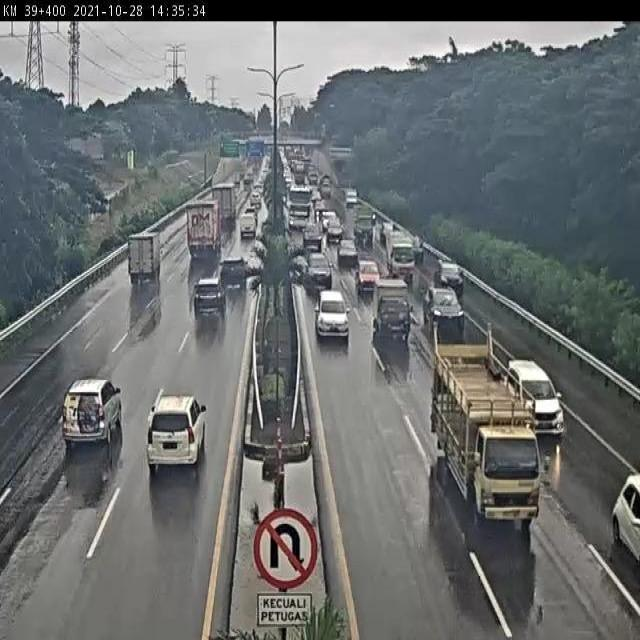big truck: (186, 201, 223, 259), (212, 183, 236, 225), (287, 184, 312, 224)
car: (148, 393, 208, 471), (509, 360, 567, 439), (63, 379, 122, 444), (612, 469, 640, 554), (374, 280, 408, 337), (426, 290, 465, 338), (318, 292, 348, 337), (196, 282, 229, 318), (219, 258, 247, 294), (434, 262, 464, 294), (304, 248, 329, 284), (235, 216, 258, 243), (353, 253, 371, 283), (304, 224, 325, 247), (410, 232, 426, 259), (244, 208, 261, 227), (336, 235, 351, 256), (248, 193, 262, 211), (331, 228, 344, 247), (324, 211, 335, 225)
small truck: (432, 343, 541, 525), (128, 231, 162, 284), (384, 229, 409, 272), (355, 210, 375, 242)
